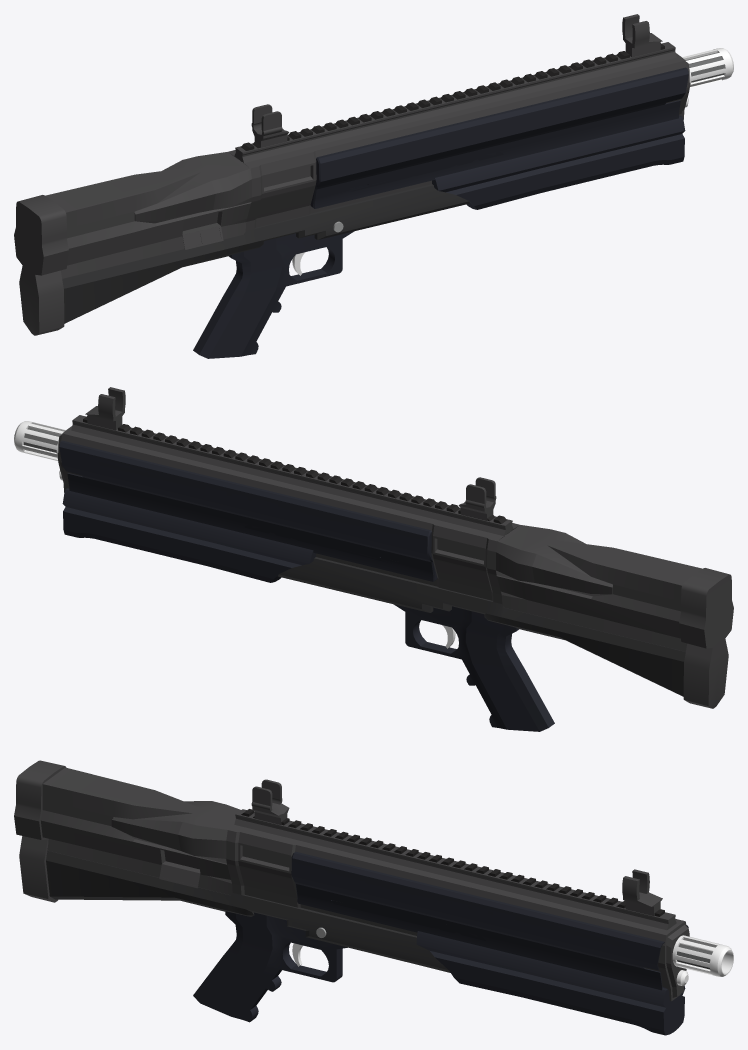
The model's file is Utas_UTS15_Mesh.fbx.
3 renders of one model, top to bottom at view 1: azimuth 30°, elevation 25°; view 2: azimuth 150°, elevation 25°; view 3: azimuth 330°, elevation 25°, orthographic.
Parts seen in each view (by area): view 1: Utas_UTS15; view 2: Utas_UTS15; view 3: Utas_UTS15.
Boxes of the visible parts, x1,y1,x2,y2 form: Utas_UTS15: (14, 14, 733, 358); Utas_UTS15: (14, 387, 733, 731); Utas_UTS15: (14, 760, 733, 1035).
Size of the model in its own units: 0.7031 by 0.2293 by 0.0661.
